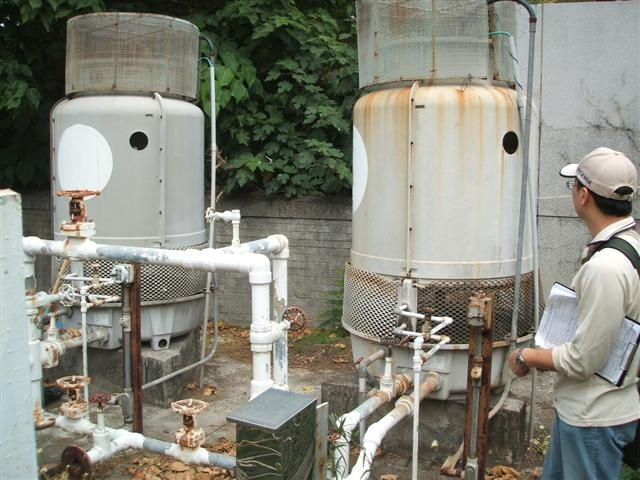water_tower: (342, 80, 546, 400), (48, 92, 208, 350)
